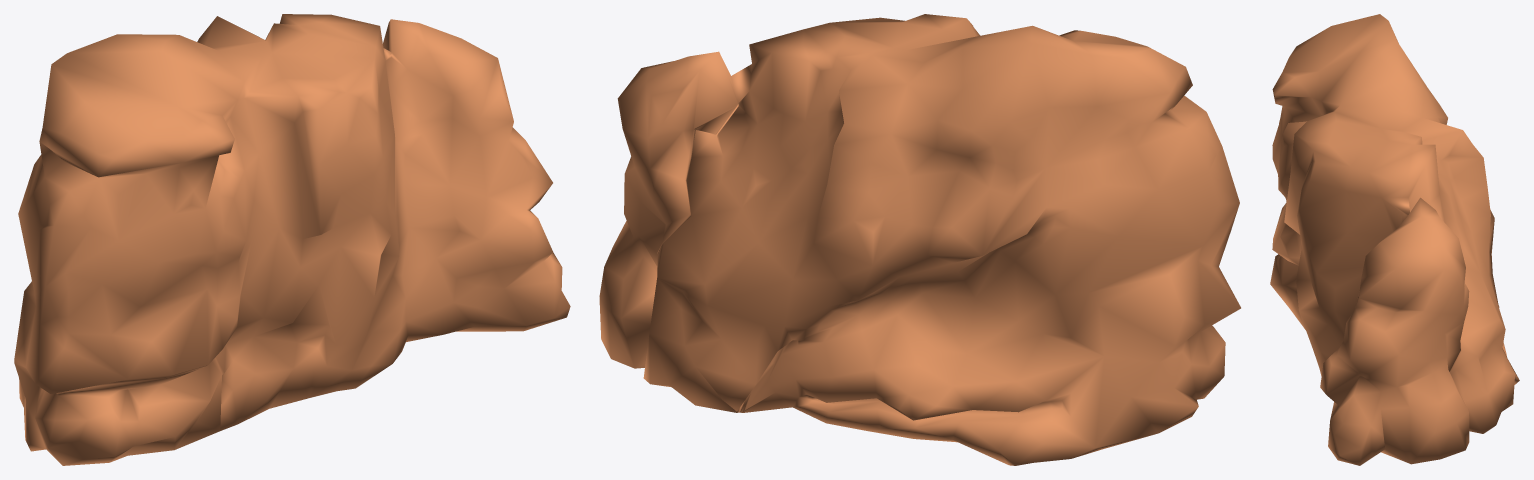
Rendered from Rock_1.fbx.
The picture shows the model from 3 angles, left to right: view 1: azimuth 30°, elevation 25°; view 2: azimuth 150°, elevation 25°; view 3: azimuth 270°, elevation 25°; orthographic projection. The views are drawn at different scales.
Parts seen in each view (by area): view 1: rock; view 2: rock; view 3: rock.
Boxes of the visible parts, x1,y1,x2,y2 form: rock: (14,14,570,465); rock: (599,14,1240,465); rock: (1270,14,1519,465).
Size of the model in its own units: 5038 by 3201 by 2561.
